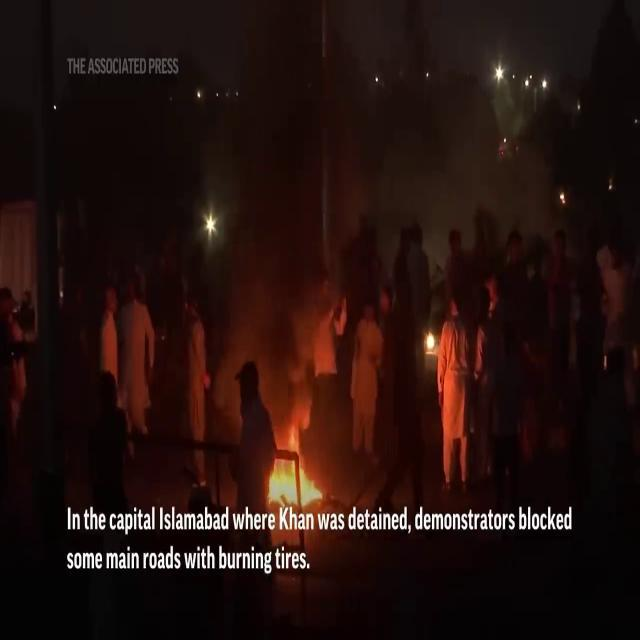Fire: (261, 438, 327, 532)
Smoke: (209, 50, 353, 402)
